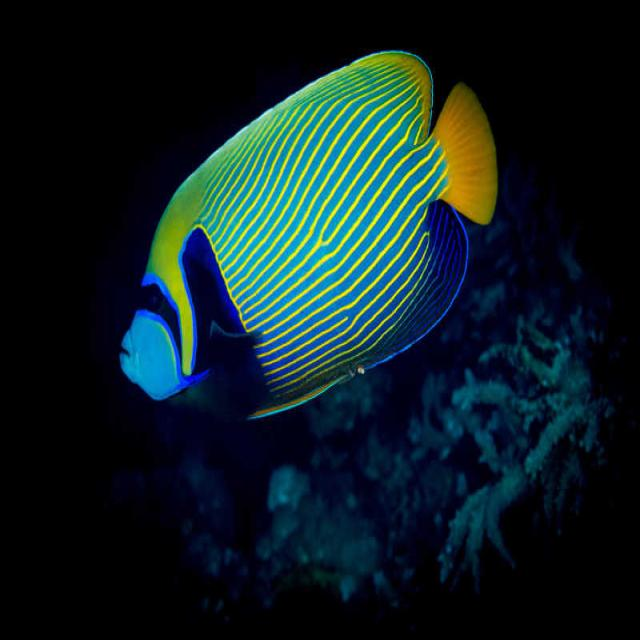AngelFish: (116, 52, 497, 424)
